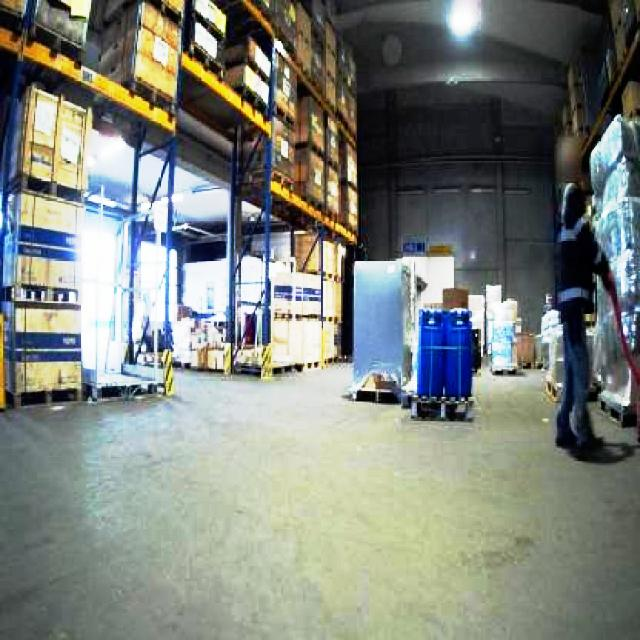ground: (0, 352, 638, 638)
pallet: (558, 0, 638, 451), (0, 83, 92, 406), (268, 269, 337, 369), (82, 368, 163, 403), (0, 308, 6, 412)
